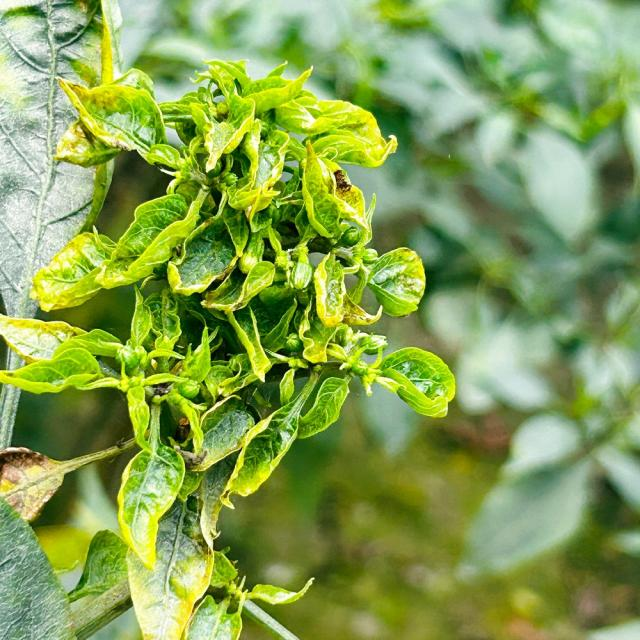Chilli_Leaf_Curl: (1, 16, 457, 637)
